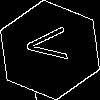V: (25, 25, 78, 64)
